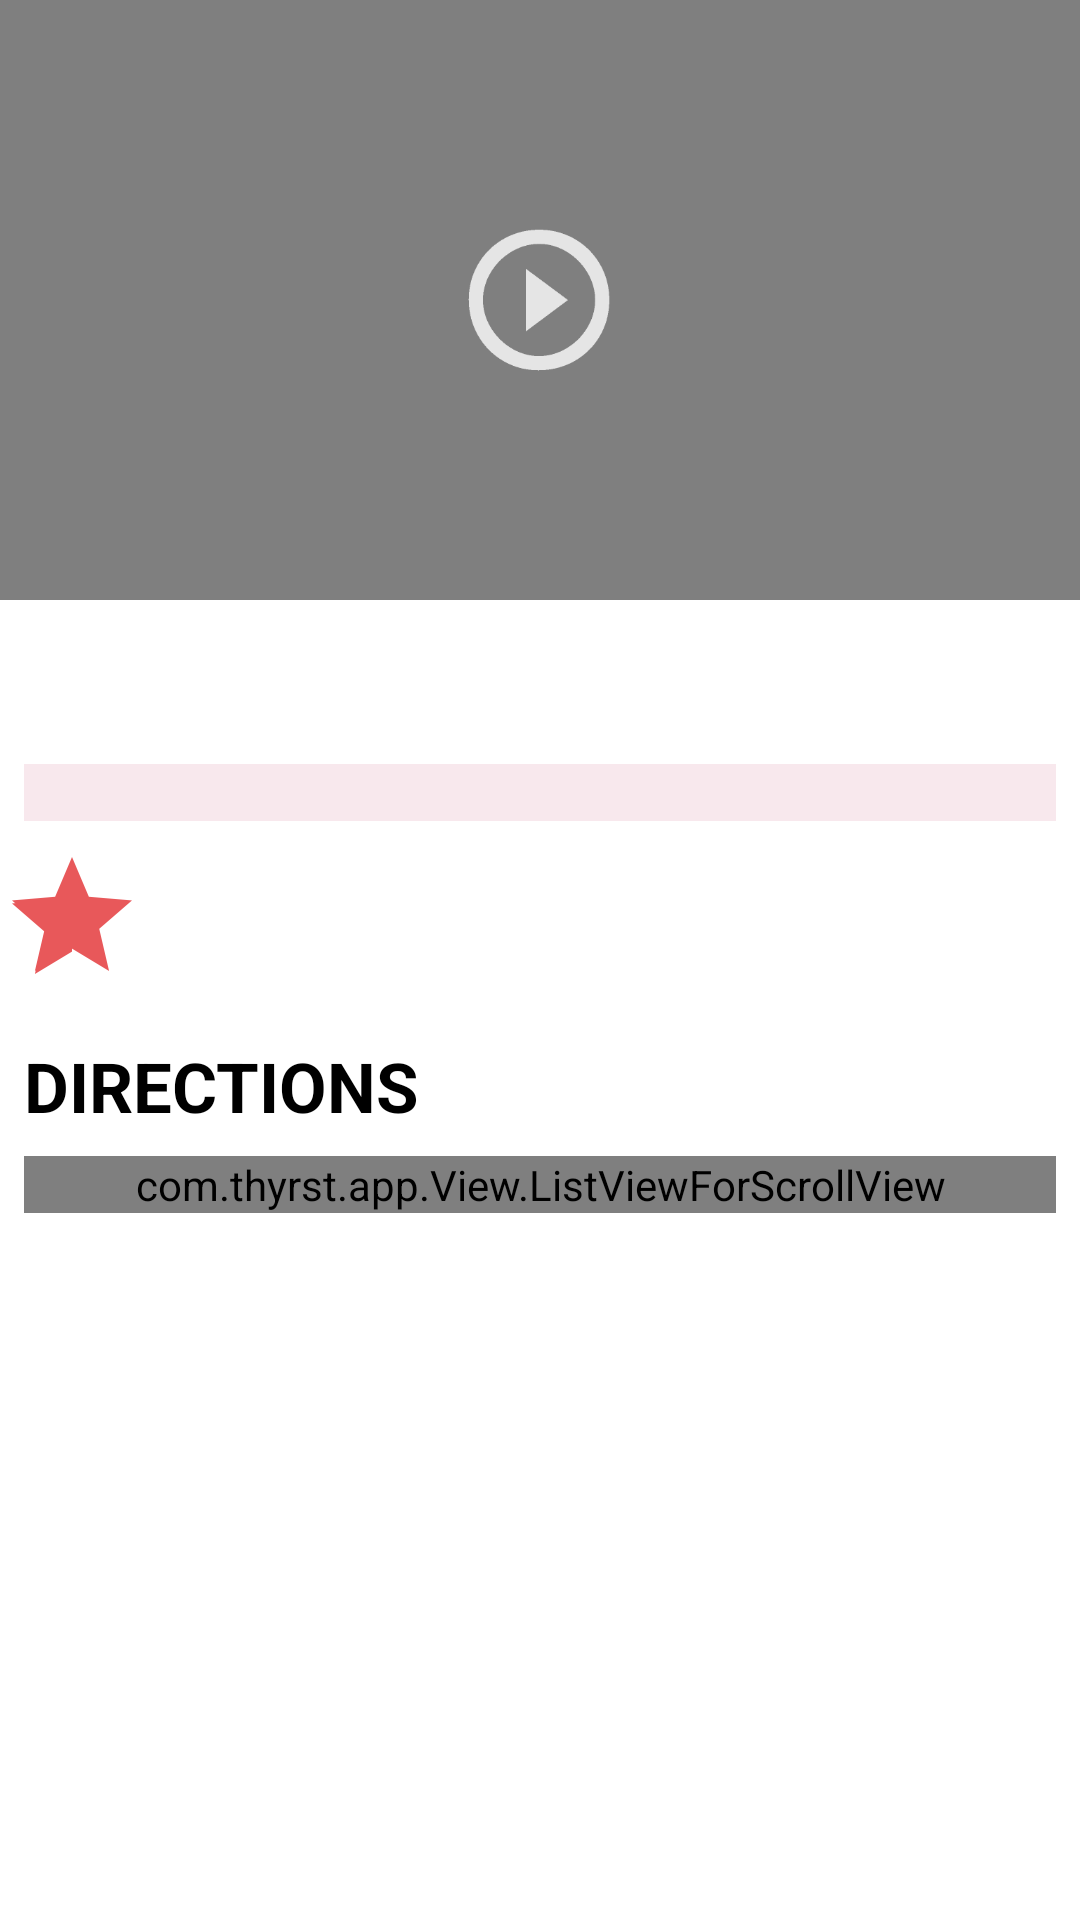

Where icons sit on this 1080px×1920px app screen, as (x1, y1, x2, y2):
video play: (468, 229, 610, 371)
